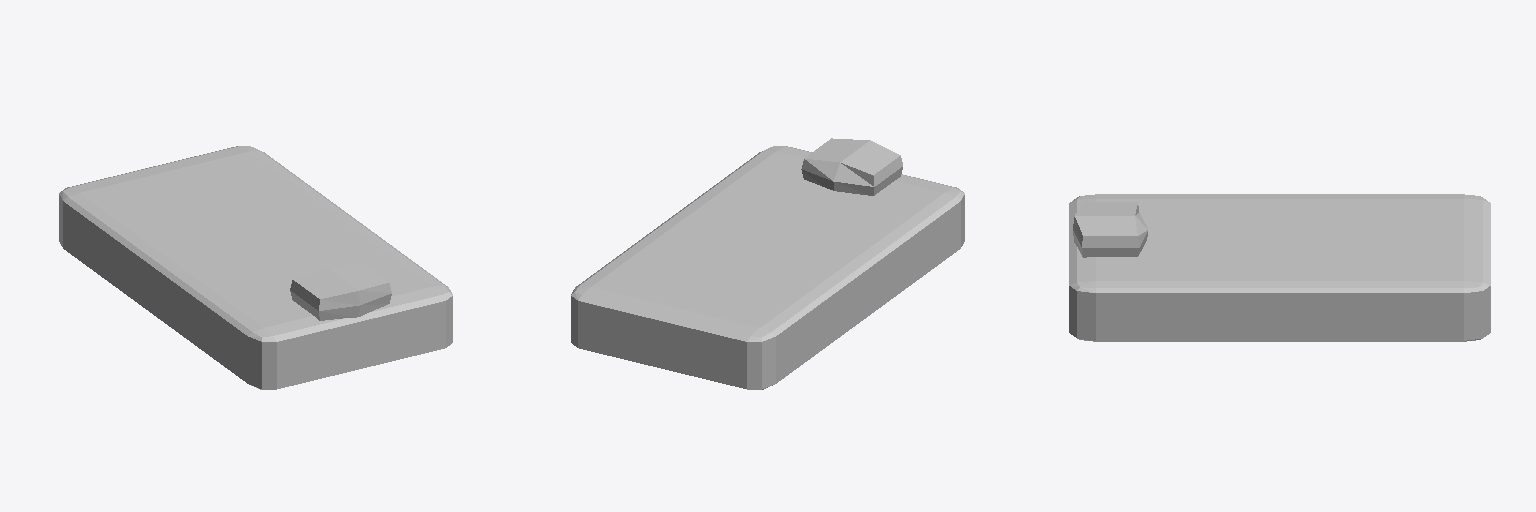
Rendered from Bed 1.obj.
3 views of the same model, side by side, from view 1: azimuth 30°, elevation 25°; view 2: azimuth 150°, elevation 25°; view 3: azimuth 270°, elevation 25° (orthographic).
Visible parts, largest first — view 1: Bed_1; view 2: Bed_1; view 3: Bed_1.
Part boxes in pixels (left/top/right/bottom): Bed_1: left=59, top=146, right=452, bottom=389; Bed_1: left=571, top=138, right=964, bottom=389; Bed_1: left=1069, top=194, right=1490, bottom=341.
Bounding box in the file's own units: 1.23 × 0.4707 × 2.23.